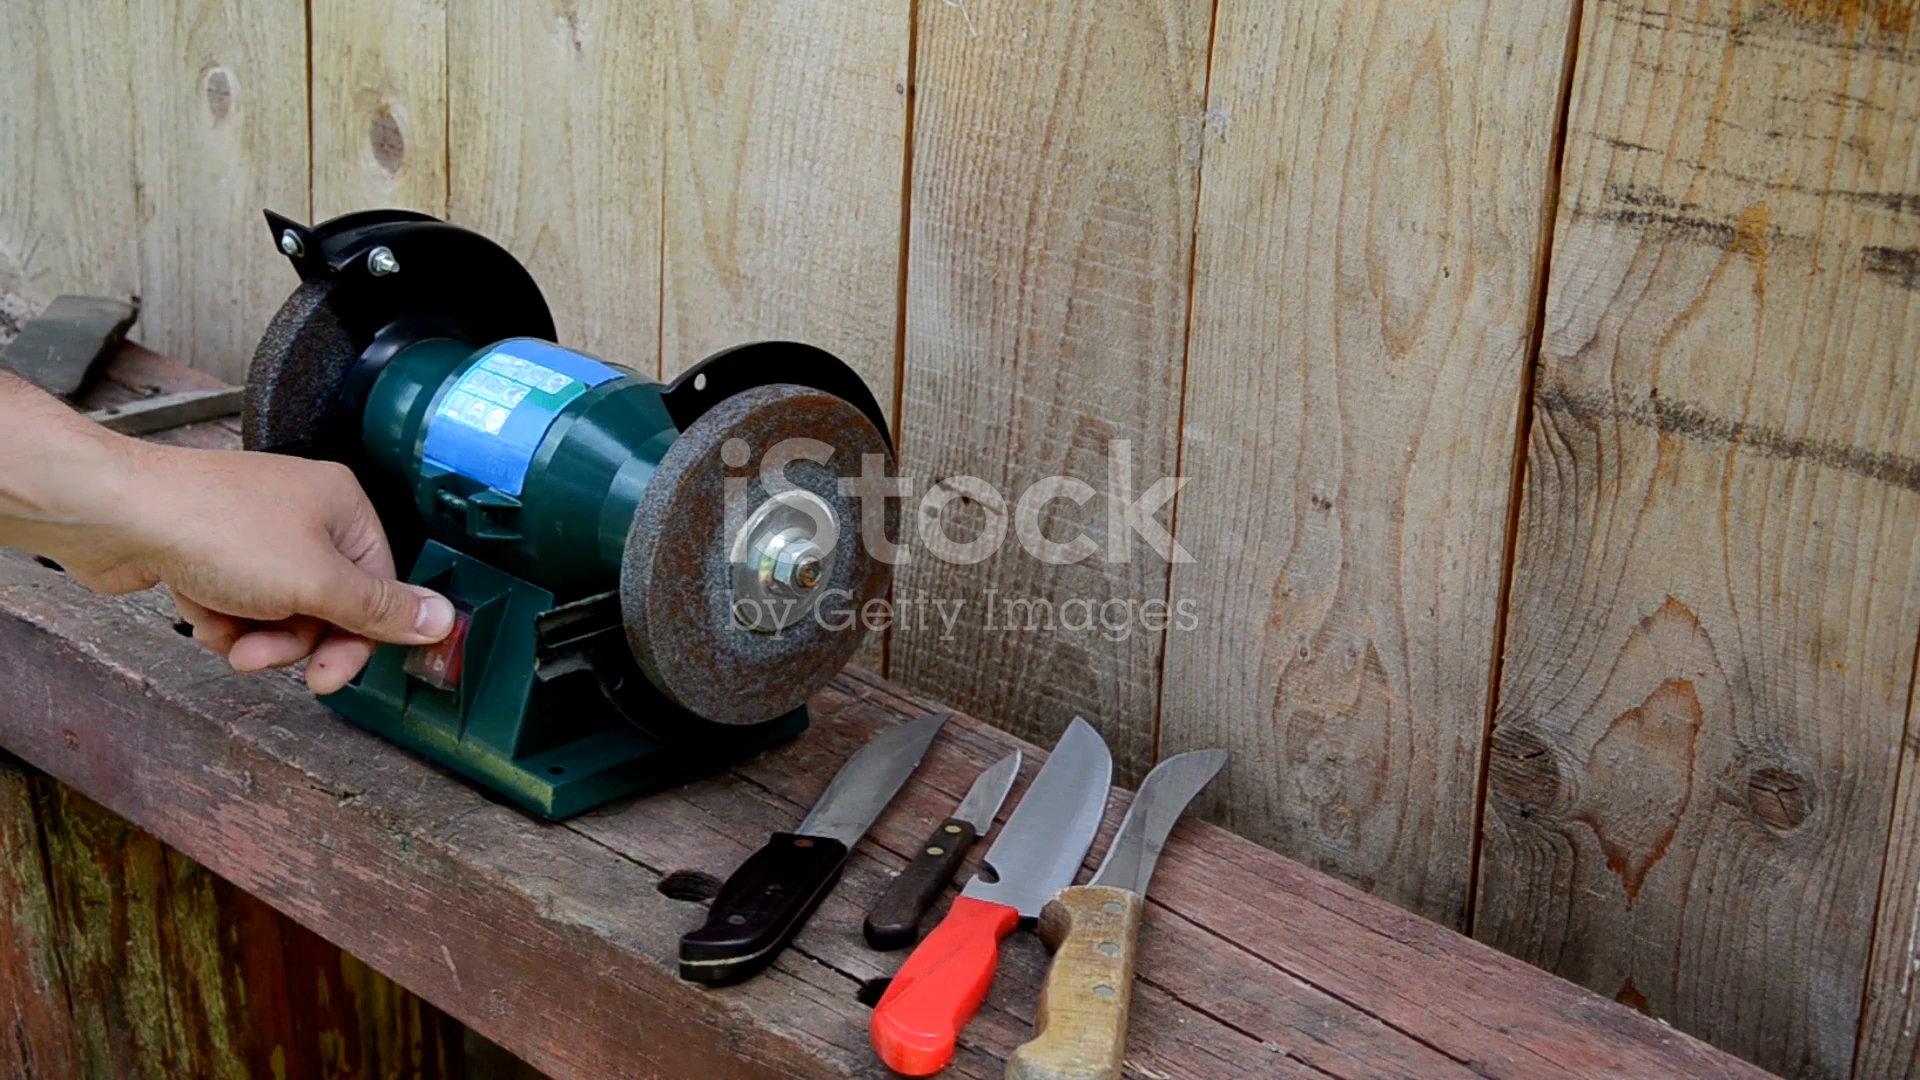cortante: (957, 715, 1112, 920), (773, 711, 955, 847), (1085, 745, 1233, 901), (952, 746, 1023, 833)
